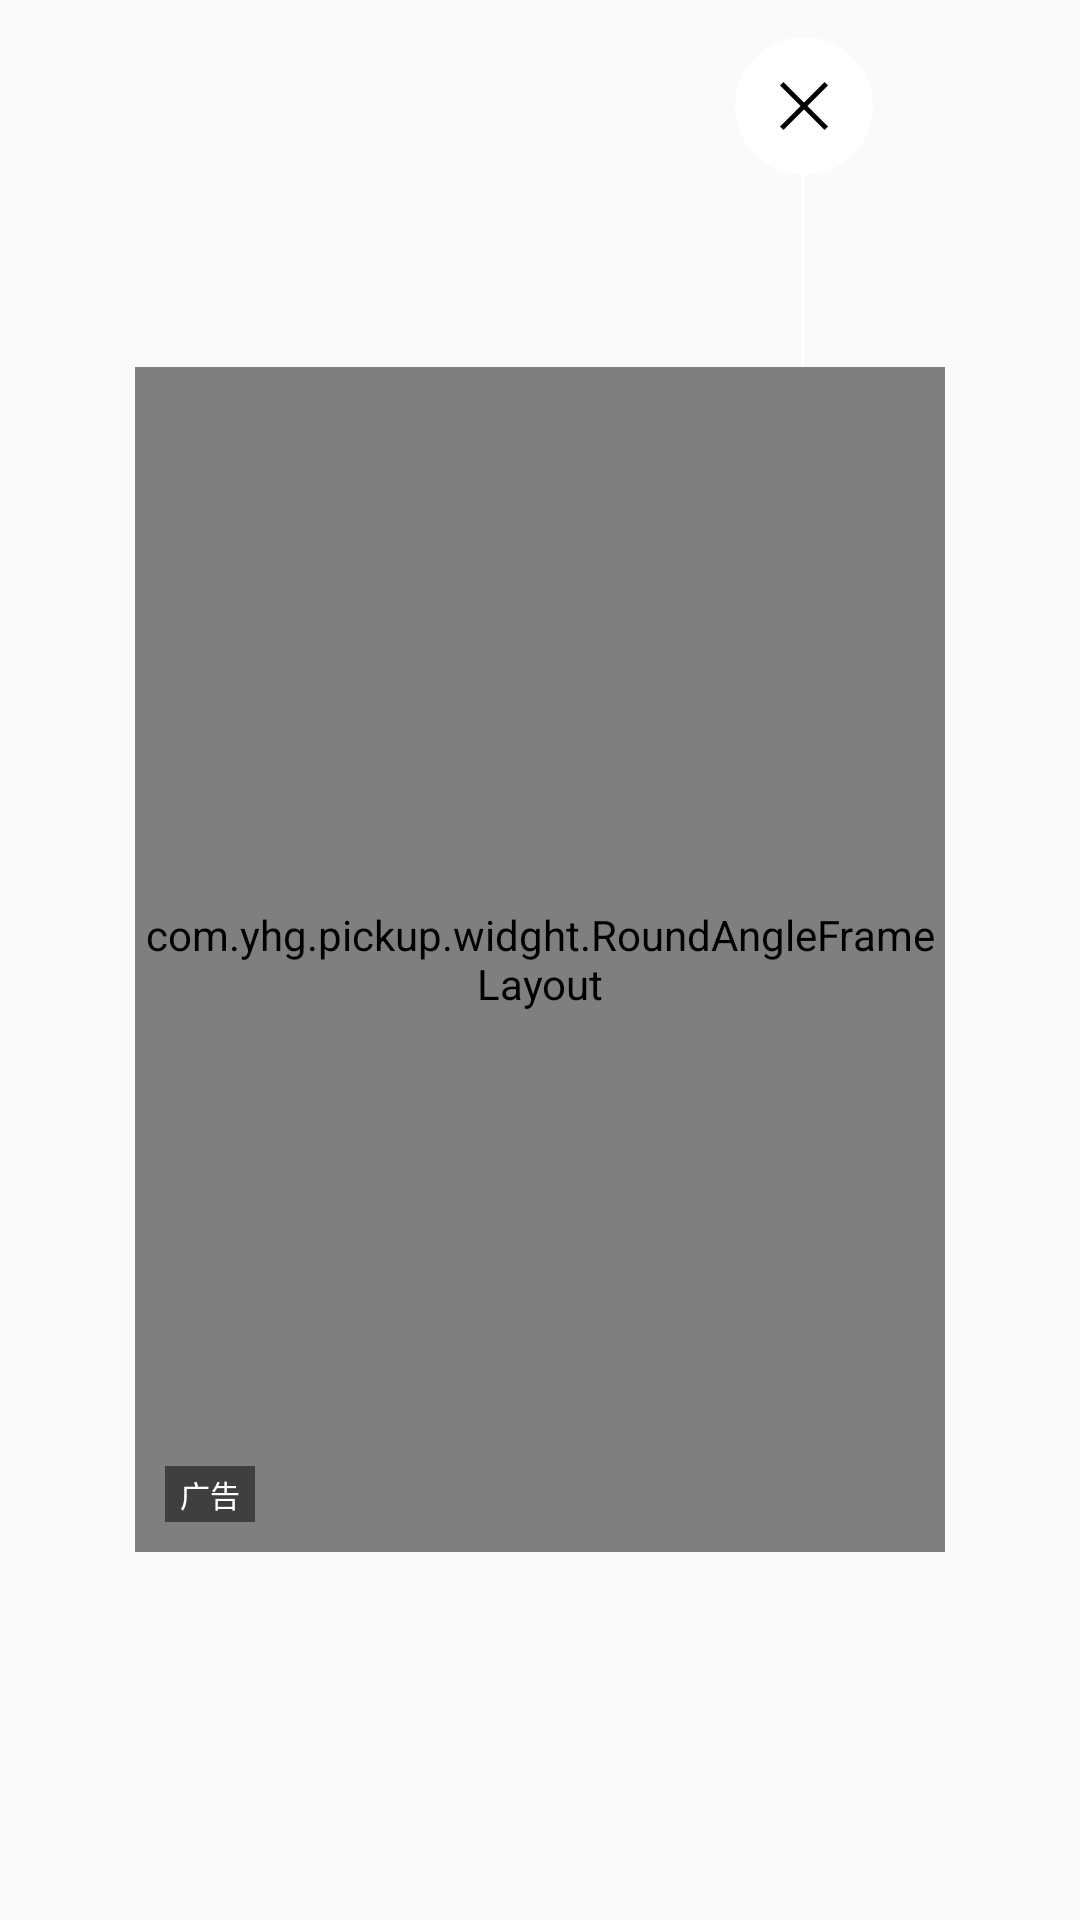

Locate icon controls on the screen. Image size 1080*1920, boxes as (x1, y1, x2, y2).
close: (780, 82, 828, 130)
